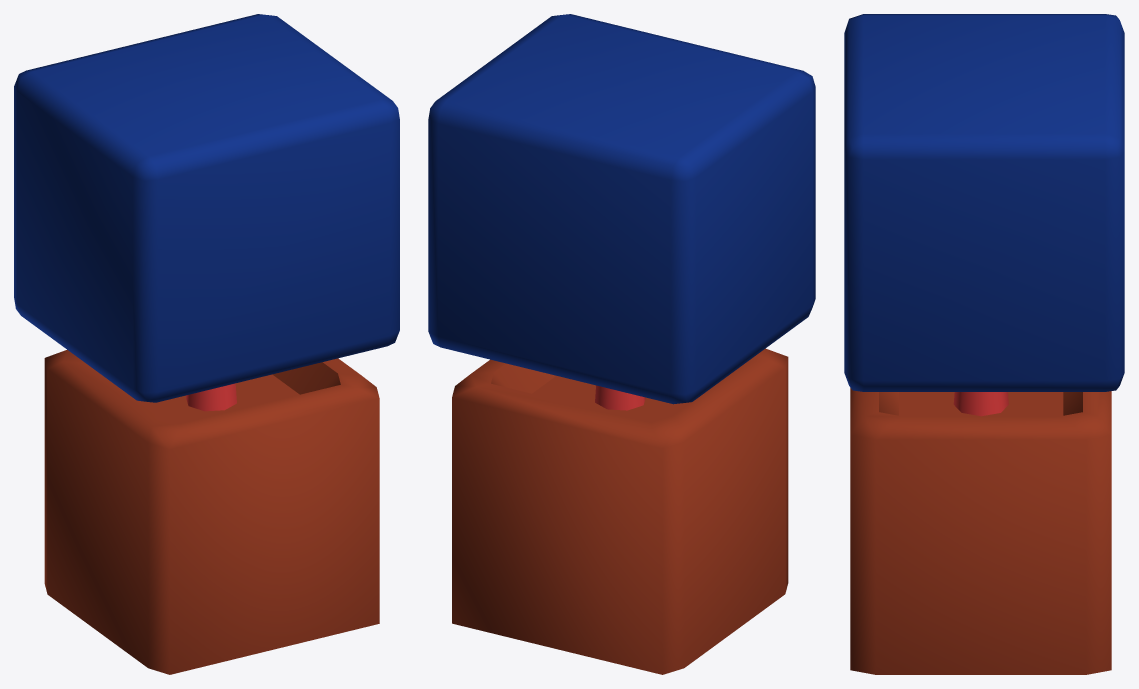
File: MacetaCuadrada.FBX
The picture shows the model from 3 angles, left to right: view 1: azimuth 30°, elevation 25°; view 2: azimuth 150°, elevation 25°; view 3: azimuth 270°, elevation 25°; orthographic projection. The views are drawn at different scales.
Parts seen in each view (by area): view 1: Box016; view 2: Box016; view 3: Box016.
Boxes of the visible parts, x1,y1,x2,y2 form: Box016: (14,14,399,674); Box016: (428,14,815,674); Box016: (844,14,1124,674).
Bounding box in the file's own units: 219 × 410 × 193.
